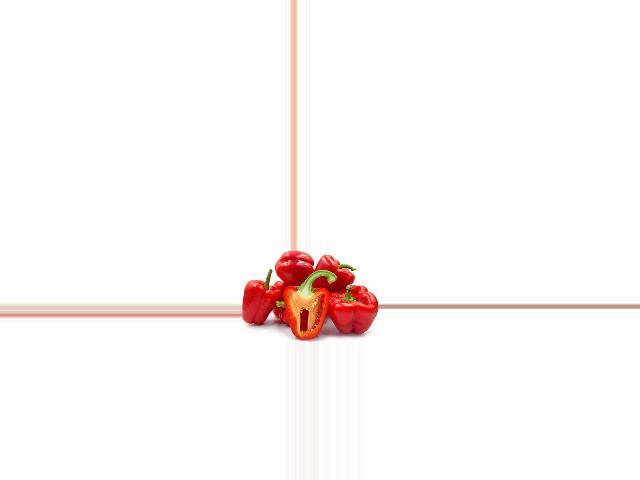bell_pepper: (313, 254, 356, 288)
